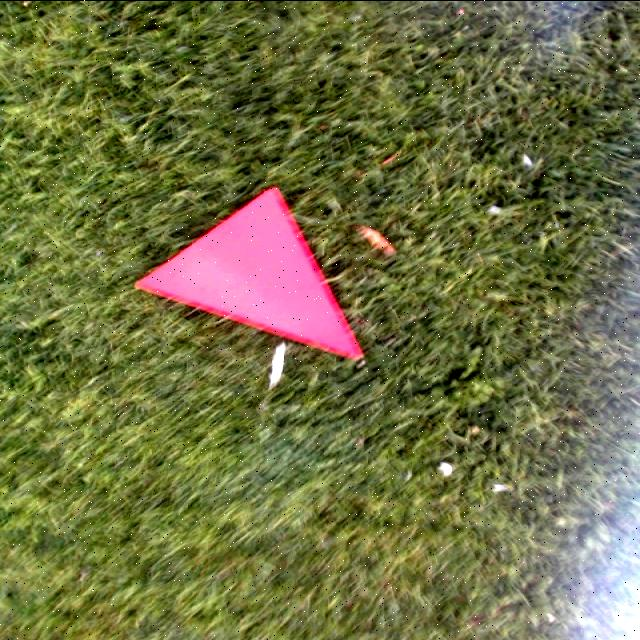red_triangle: (150, 185, 363, 361)
